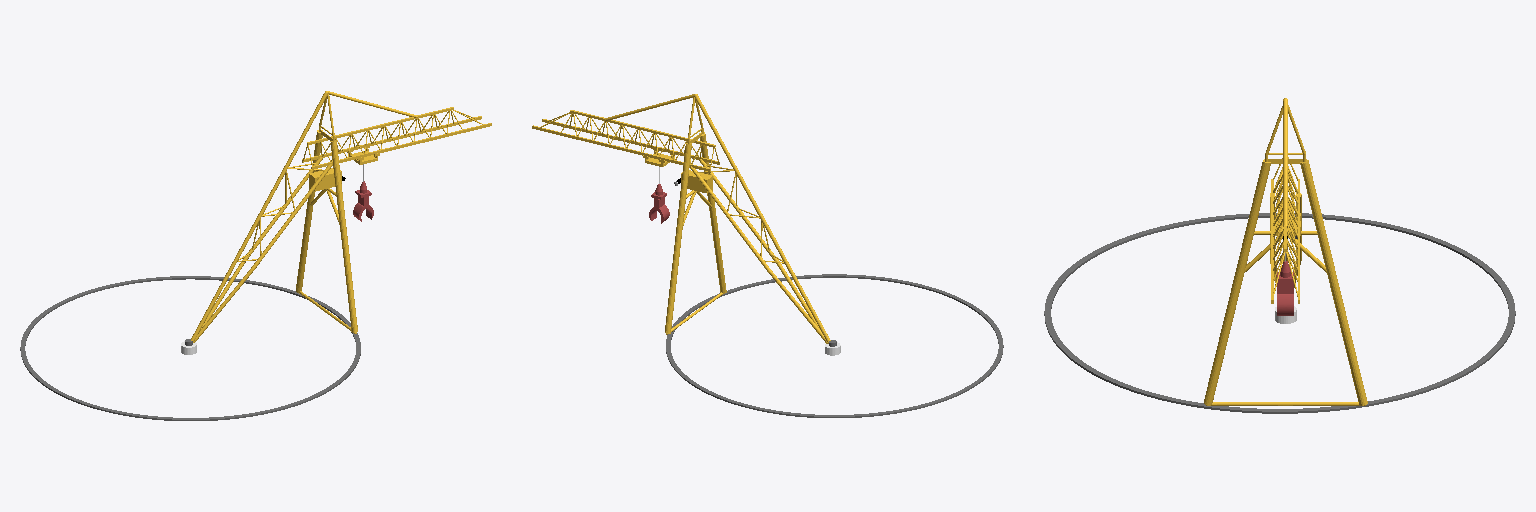
The robot description file, URDF, robot "rotating_crane":
<?xml version="1.0"?>
<!-- ATTENTION: When editing this file, it seems sometimes relevant in what order links and joints are defined.
    This shouldn't be true unless `URDF_MAINTAIN_LINK_ORDER` is used in `loadURDF()`, but it is.
    The flag doesn't seem to work, so DON'T rely on it. Even though we are accessing joints and links by name in the
    simulation, it sometimes doesn't work. Do experiment with placing any additions at the very end of this file. -->

<robot name="rotating_crane">

  <link name="tracks">
    <inertial>
      <origin xyz="0 0 0" />
      <mass value="0.0" />
      <inertia  ixx="1.0" ixy="0.0"  ixz="0.0"  iyy="100.0"  iyz="0.0"  izz="1.0" />
    </inertial>
    <visual>
      <origin xyz="0 0 0"/>
      <geometry>
        <mesh filename="tracks.stl" scale="0.01 0.01 0.01"/>
      </geometry>
      <material name="grey">
        <color rgba="0.5 0.5 0.5 1"/>
      </material>
    </visual>
    <collision>
      <origin xyz="0 0 0"/>
      <geometry>
        <mesh filename="tracks.stl" scale="0.01 0.01 0.01"/>
      </geometry>
    </collision>
  </link>

  <link name="gantry">
    <visual>
      <geometry>
        <mesh filename="crane.stl" scale="0.01 0.01 0.01"/>
      </geometry>
      <origin xyz="0 0 0"/>
      <material name="koneyellow">
        <color rgba="0.992 0.8117 0.282 1"/>
      </material>
    </visual>
    <inertial>
      <mass value="10000.0" />
      <inertia ixx="1.0" ixy="0.0" ixz="0.0" iyy="1.0" iyz="0.0" izz="1.0"/>
    </inertial>
    <collision>
      <geometry>
        <mesh filename="crane_vhacd.obj" scale="0.01 0.01 0.01"/>
      </geometry>
      <origin xyz="0 0 0"/>
    </collision>
  </link>

	<joint name="tracks_to_gantry" type="continuous">
		<parent link="tracks"/>
		<child link="hub"/>
        <axis xyz="0 0 1"/>
	</joint>

  <link name="trolley">
    <visual>
      <geometry>
        <mesh filename="trolley.stl" scale="0.01 0.01 0.01"/>
      </geometry>
      <origin xyz="0 0 0"/>
      <material name="koneyellow"/>
    </visual>
    <collision>
      <geometry>
        <mesh filename="trolley.stl" scale="0.01 0.01 0.01"/>
      </geometry>
      <origin xyz="0 0 0"/>
    </collision>
    <inertial>
      <mass value="10"/>
      <inertia ixx="1.0" ixy="0.0" ixz="0.0" iyy="1.0" iyz="0.0" izz="1.0"/>
    </inertial>
  </link>

  <joint name="gantry_to_trolley" type="prismatic">
    <axis xyz="1 0 0"/>
    <origin xyz="2.5 0.0 2.0"/>
    <parent link="gantry"/>
    <child link="trolley"/>
    <limit effort="1000.0" lower="0" upper="1.5" velocity="1"/>
  </joint>

  <link name="sway_link_x">
    <visual>
      <geometry>
        <cylinder radius="0.005" length="0.01"/>
      </geometry>
        <origin rpy="1.57 0 0" xyz="0 0 -0.01"/>
      <material name="green">
        <color rgba="0 1 0 1"/>
      </material>
    </visual>
    <inertial>
      <origin xyz="0 0 -0.01" />
      <mass value="0" />
      <inertia ixx="1.0" ixy="0.0" ixz="0.0" iyy="1.0" iyz="0.0" izz="1.0" />
    </inertial>
    <collision>
      <geometry>
        <cylinder radius="0.01" length="0.01"/>
      </geometry>
      <origin xyz="0 0 -0.01" />
    </collision>
  </link>

  <!-- If type=fixed, sway is disabled -->
  <joint name="trolley_to_sway_x" type="continuous">
    <axis xyz="0 1 0" />
    <origin xyz="0 0 -0.01"/>
    <parent link="trolley"/>
    <child link="sway_link_x"/>
    <dynamics damping="0" friction="1"/>
  </joint>

  <link name="sway_link_y">
    <visual>
      <geometry>
        <cylinder radius="0.005" length="0.01"/>
      </geometry>
        <origin rpy="0 1.57 0" xyz="0 0 -0.015"/>
      <material name="red">
        <color rgba="1 0 0 1"/>
      </material>
    </visual>
    <inertial>
      <origin xyz="0 0 -0.015" />
      <mass value="0" />
      <inertia ixx="1.0" ixy="0.0" ixz="0.0" iyy="1.0" iyz="0.0" izz="1.0" />
    </inertial>
    <collision>
      <geometry>
        <cylinder radius="0.01" length="0.01"/>
      </geometry>
      <origin xyz="0 0 -0.015" />
    </collision>
  </link>

  <!-- If type=fixed, sway is disabled -->
  <joint name="sway_x_to_sway_y" type="continuous">
    <axis xyz="1 0 0" />
    <origin xyz="0 0 -0.015"/>
    <parent link="sway_link_x"/>
    <child link="sway_link_y"/>
    <dynamics damping="0" friction="1"/>
  </joint>


  <link name="hoist">
    <visual>
      <geometry>
        <cylinder radius="0.003" length="0.5"/>
      </geometry>
        <origin xyz="0 0 -0.2" />
      <material name="white">
        <color rgba="1 1 1 1"/>
      </material>
    </visual>
    <inertial>
      <origin xyz="0 0 0" />
      <mass value="10"/>
      <inertia ixx="1.0" ixy="0.0" ixz="0.0" iyy="1.0" iyz="0.0" izz="1.0"/>
    </inertial>
    <!-- Caution: Without a collision spec for the hoist, bullet refuses to move the gantry (???) -->
    <collision>
      <geometry>
        <cylinder radius="0.003" length="1"/>
      </geometry>
      <origin xyz="0 0 0" />
    </collision>
  </link>

  <!-- affects hoist up/down: if type=fixed, hoist cant be lowered or raised -->
  <joint name="sway_y_to_hoist" type="prismatic">
    <axis xyz="0 0 1"/>
    <origin rpy="0 0 0" xyz="0 0 0"/>
    <parent link="sway_link_y"/>
    <child link="hoist"/>
    <limit effort = "10.0" lower="-1" upper="0" velocity="1"/>
  </joint>

  <link name="hub">
    <visual>
      <geometry>
        <cylinder radius="0.1" length="0.1"/>
      </geometry>
      <origin xyz="0 0 0"/>
      <material name="white">
        <color rgba="1 1 1 1"/>
      </material>
    </visual>
    <inertial>
      <mass value="0"/>
      <inertia ixx="1.0" ixy="0.0" ixz="0.0" iyy="1.0" iyz="0.0" izz="1.0"/>
    </inertial>
    <collision>
      <geometry>
        <cylinder radius="0.1" length="0.1"/>
      </geometry>
      <origin xyz="0 0 0"/>
    </collision>
  </link>

  <joint name="hub_to_gantry" type="continuous">
    <axis xyz="0 0 1"/>
    <origin xyz="0.0 0.0 0.0"/>
    <parent link="hub"/>
    <child link="gantry"/>
    <dynamics damping="0" friction="1"/>
    <!-- <limit effort="1000.0" lower="0.1" upper="0.1" velocity="5"/> -->
  </joint>

  <joint name="hoist_to_grapple_base" type="fixed">
    <origin xyz="0.0 0.0 -0.5"/>
    <parent link="hoist"/>
    <child link="grapple_base"/>
  </joint>

  <link name="grapple_base">
    <visual>
      <geometry>
        <mesh filename="grappleBase.stl" scale="0.01 0.01 0.01"/>
      </geometry>
      <origin rpy="0 0 0 " xyz="0 0 0"/>
    <material name="reddish">
      <color rgba="0.721 0.352 0.352 1"/>
    </material>
    </visual>
   <inertial>
    <mass value="0"/>
    <inertia ixx="1.0" ixy="0.0" ixz="0.0" iyy="1.0" iyz="0.0" izz="1.0"/>
  </inertial>
  <collision>
    <geometry>
      <mesh filename="grappleBase.stl" scale="0.01 0.01 0.01"/>
    </geometry>
    <origin rpy="0 0 0 " xyz="0 0 0"/>
  </collision>
  </link>

  <joint name="grapple_base_to_grapple_body" type="revolute">
    <axis xyz="0 0 1"/>
    <origin xyz="0.0 0.0 -0.09"/>
    <parent link="grapple_base"/>
    <child link="grapple_body"/>
     <limit effort="10000.0" lower="-15" upper="15" velocity="5"/>
  </joint>

   <link name="grapple_body">
    <visual>
      <geometry>
        <mesh filename="grappleCenter.stl" scale="0.01 0.01 0.01"/>
      </geometry>
      <origin rpy="0 0 0 " xyz="0 0 0"/>
      <material name="reddish"/>
    </visual>
   <inertial>
    <mass value="0"/>
    <inertia ixx="1.0" ixy="0.0" ixz="0.0" iyy="1.0" iyz="0.0" izz="1.0"/>
  </inertial>
  <collision>
    <geometry>
      <mesh filename="grappleCenter.stl" scale="0.01 0.01 0.01"/>
    </geometry>
    <origin rpy="0 0 0" xyz="0 0 0"/>
  </collision>
  </link>

  <joint name="grapple_body_to_left_grapple_jaw" type="revolute">
    <axis xyz="0 1 0"/>
    <origin rpy="0 0 0" xyz="0 0 0"/>
    <parent link="grapple_body"/>
    <child link="left_grapple_jaw"/>
    <limit effort="10000.0" lower="-0.5" upper="0.5" velocity="5"/>
  </joint>

  <link name="left_grapple_jaw">
    <visual>
      <origin rpy="0 0 0" xyz="0 0 0"/>
      <geometry>
        <mesh filename="grappleLeft.stl" scale="0.01 0.01 0.01"/>
      </geometry>
      <material name="reddish"/>
    </visual>
    <collision>
      <geometry>
        <mesh filename="grappleLeft.stl" scale="0.01 0.01 0.01"/>
      </geometry>
      <origin xyz="0 0 0"/>
    </collision>
   <inertial>
    <mass value="5.0"/>
    <inertia ixx="1.0" ixy="0.0" ixz="0.0" iyy="1.0" iyz="0.0" izz="1.0"/>
  </inertial>
  </link>

  <joint name="grapple_body_to_right_grapple_jaw" type="revolute">
    <axis xyz="0 1 0"/>
    <origin rpy="0 0 0" xyz="0 0 0"/>
    <parent link="grapple_body"/>
    <child link="right_grapple_jaw"/>
    <limit effort="10000.0" lower="-0.5" upper="0.5" velocity="5"/>
  </joint>


  <link name="right_grapple_jaw">
    <visual>
      <origin rpy="0 0 0" xyz="0 0 0"/>
      <geometry>
        <mesh filename="grappleRight.stl" scale="0.01 0.01 0.01"/>
      </geometry>
      <material name="reddish"/>
    </visual>
    <collision>
      <geometry>
        <mesh filename="grappleRight.stl" scale="0.01 0.01 0.01"/>
      </geometry>
      <origin xyz="0 0 0"/>
    </collision>
    <inertial>
    <mass value="5.0"/>
    <inertia ixx="1.0" ixy="0.0" ixz="0.0" iyy="1.0" iyz="0.0" izz="1.0"/>
  </inertial>
  </link>

    <!-- Caution: Placing this further to the top of this file causes the crane's behaviour to fuckup ??? -->
  <link name="camera_housing">
      <visual>
          <geometry>
              <box size="0.05 0.05 0.05" />
          </geometry>
          <material name="black" >
              <color rgba="0 0 0 1" />
          </material>
      </visual>
      <collision>
        <geometry>
          <box size="0.05 0.05 0.05" />
        </geometry>
        <origin xyz="0 0 0"/>
      </collision>
       <inertial>
         <mass value="10"/>
         <inertia ixx="1.0" ixy="0.0" ixz="0.0" iyy="1.0" iyz="0.0" izz="1.0"/>
       </inertial>
  </link>

  <joint name="gantry_to_camera_housing" type="fixed">
        <origin xyz="2.2 0 1.8" rpy="0 0.5 0"/>
    <parent link="gantry"/>
    <child link="camera_housing"/>
  </joint>

  <link name="lidar_housing">
      <visual>
          <geometry>
            <cylinder radius="0.02" length="0.05"/>
          </geometry>
          <material name="gray" >
              <color rgba="0.5 0.5 0.5 1" />
          </material>
      </visual>
      <collision>
        <geometry>
          <cylinder radius="0.02" length="0.05"/>
        </geometry>
        <origin xyz="0 0 0"/>
      </collision>
       <inertial>
         <mass value="10"/>
         <inertia ixx="1.0" ixy="0.0" ixz="0.0" iyy="1.0" iyz="0.0" izz="1.0"/>
       </inertial>
  </link>

  <joint name="gantry_to_lidar_housing" type="fixed">
        <origin xyz="2.2 0.1 1.8" rpy="0 0.5 0"/>
    <parent link="gantry"/>
    <child link="lidar_housing"/>
  </joint>

</robot>

--- What the picture shows (computed from the rendered views, not written in the file) ---
The picture shows the robot from 3 angles, left to right: view 1: azimuth 30°, elevation 25°; view 2: azimuth 150°, elevation 25°; view 3: azimuth 270°, elevation 25°; orthographic projection.
Robot: rotating_crane — 13 links, 12 joints (3 revolute, 4 continuous, 2 prismatic, 3 fixed); root link tracks; default pose: all joints at 0.
Links seen in each view (by area): view 1: gantry, tracks; view 2: gantry, tracks; view 3: gantry, tracks.
Boxes of the visible links, x1,y1,x2,y2 form: gantry: [191, 91, 491, 342]; tracks: [20, 276, 360, 420]; gantry: [532, 94, 830, 343]; tracks: [666, 274, 1003, 417]; gantry: [1204, 98, 1367, 405]; tracks: [1044, 213, 1515, 413].
Bounding box of the posed robot: 6.36 × 4.22 × 3.1 m (x, y, z).
7 mesh visuals loaded from 7 distinct referenced files (7 binary STL).